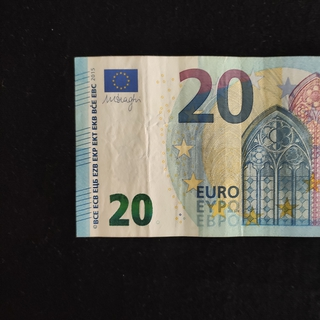20EUROFront: (72, 54, 320, 239)
